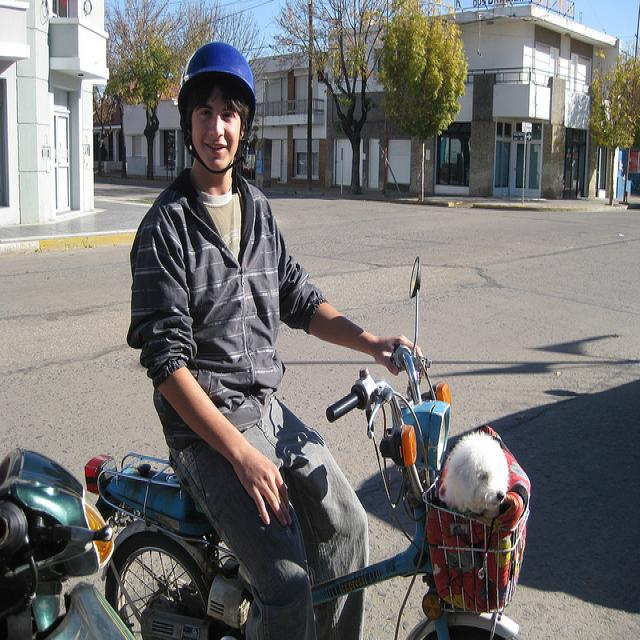motor: (83, 254, 522, 633)
